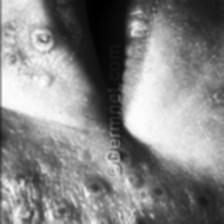Toxin: (0, 22, 22, 80), (24, 28, 56, 54), (82, 181, 106, 198), (208, 87, 224, 110), (37, 72, 54, 88)
